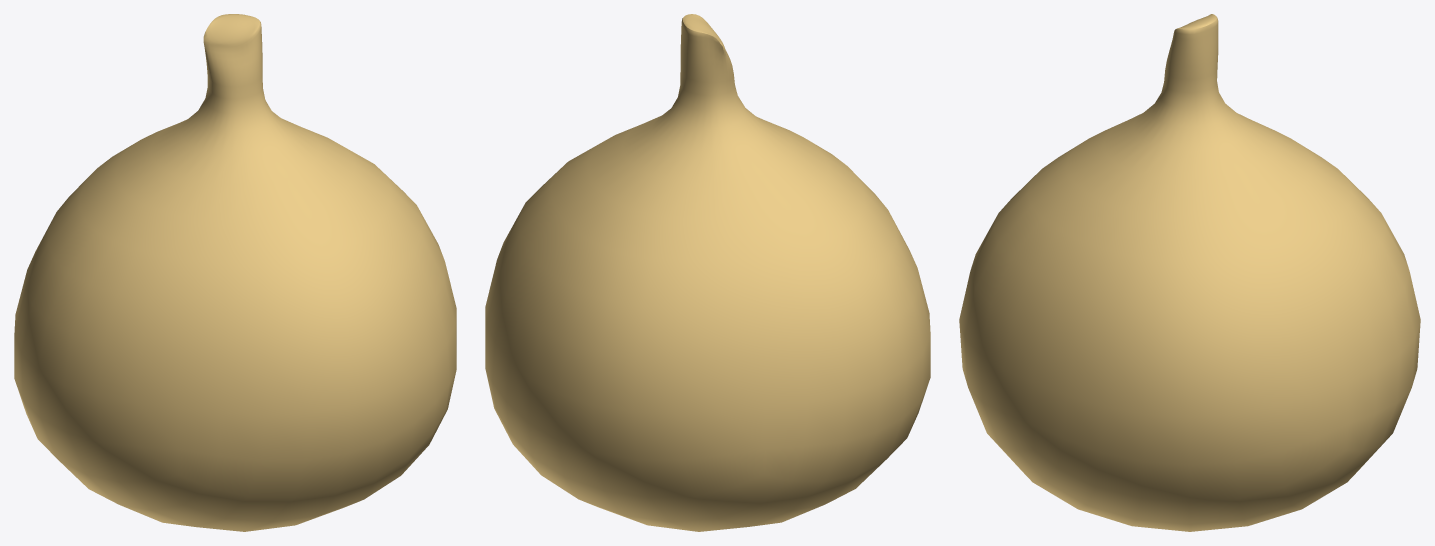
The model's file is onion.fbx.
3 renders of one model, left to right at view 1: azimuth 30°, elevation 25°; view 2: azimuth 150°, elevation 25°; view 3: azimuth 270°, elevation 25°, orthographic.
Parts seen in each view (by area): view 1: Cube; view 2: Cube; view 3: Cube.
Boxes of the visible parts, x1=… form: Cube: x1=14, y1=14, x2=456, y2=531; Cube: x1=485, y1=14, x2=930, y2=531; Cube: x1=959, y1=14, x2=1420, y2=531.
Bounding box in the file's own units: 159 × 185 × 159.
